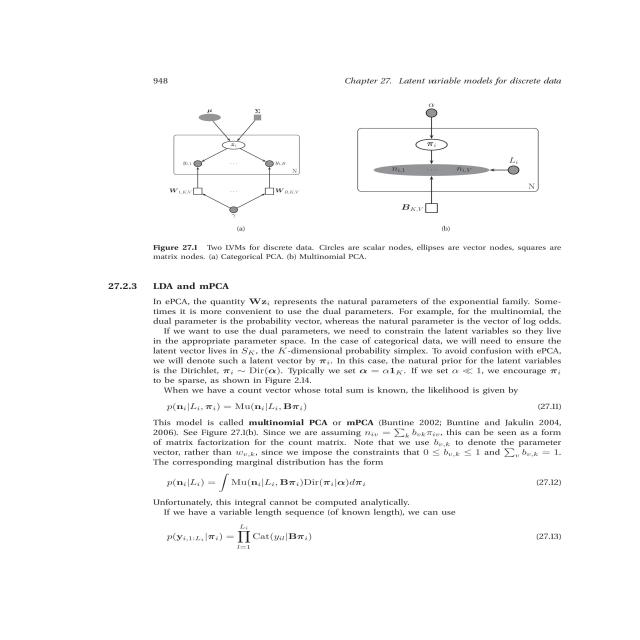diagram: (100, 85, 640, 264)
